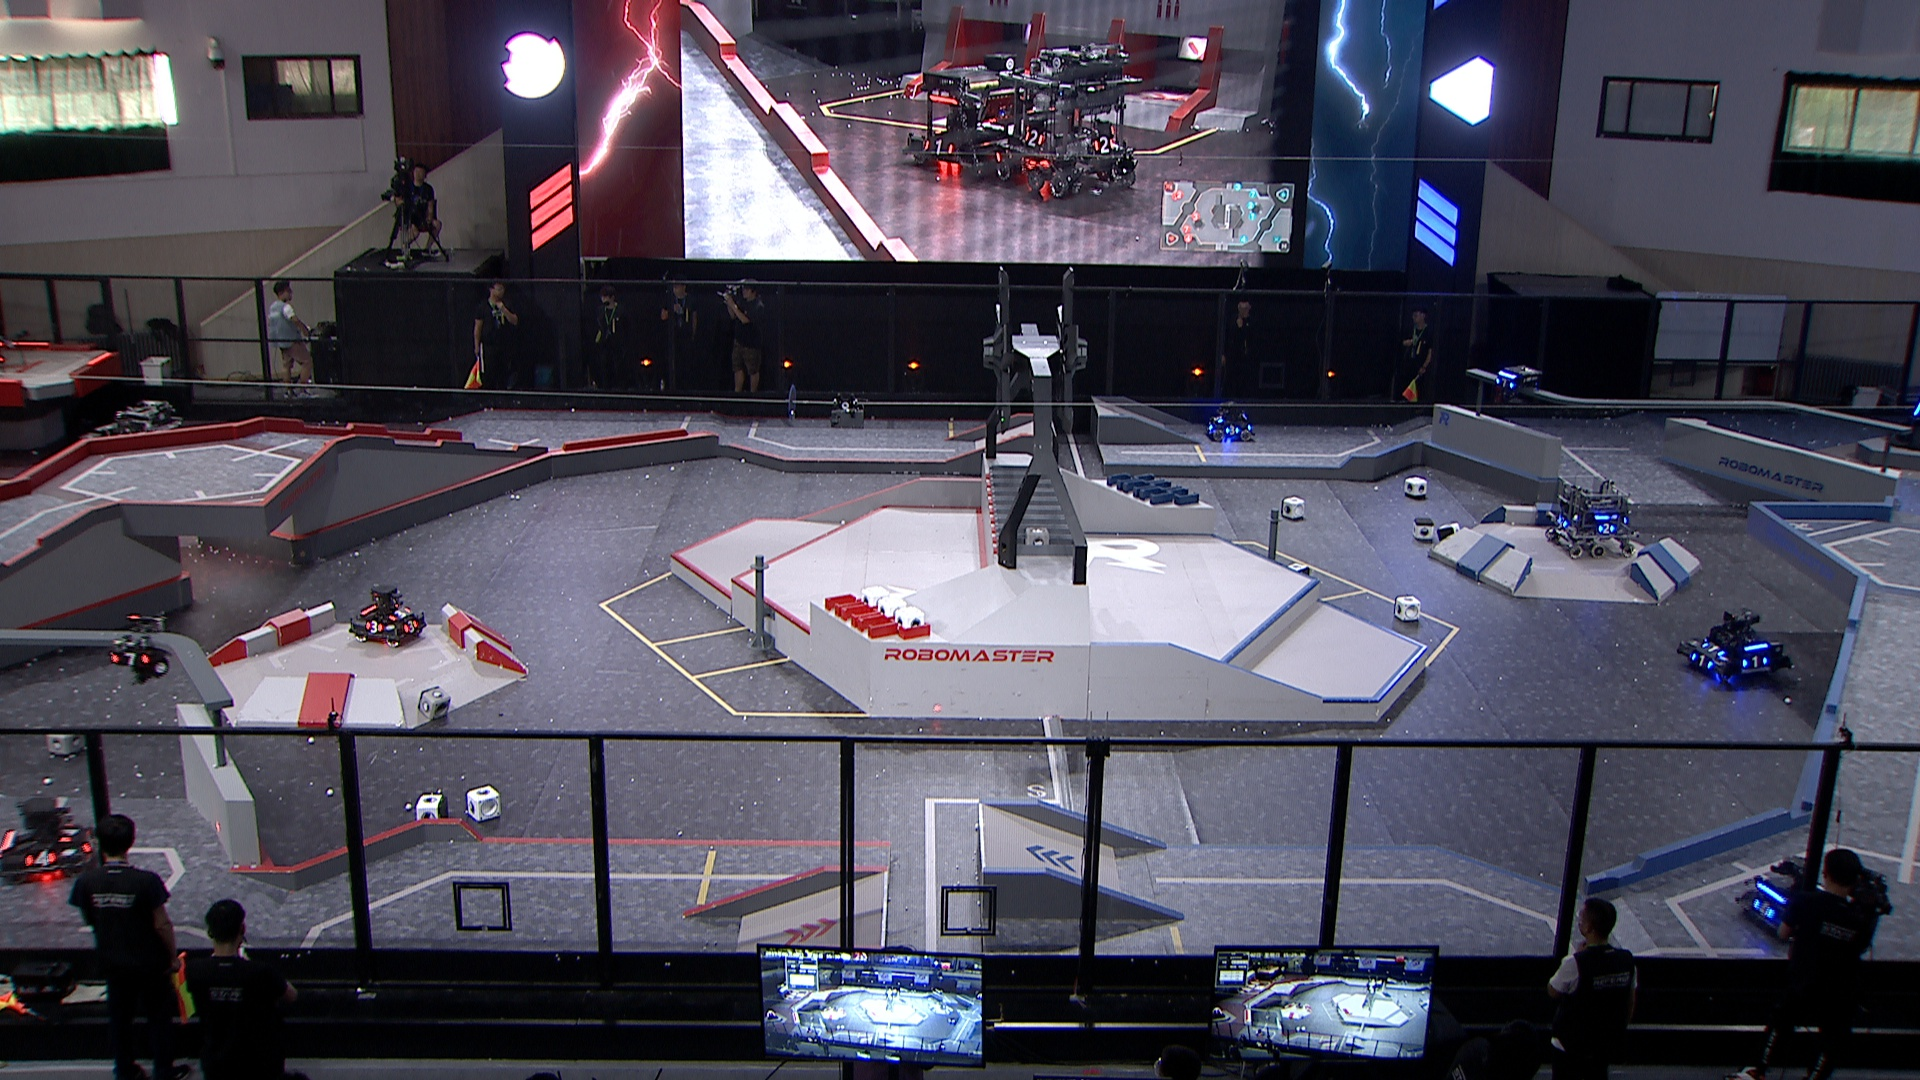armor: (22, 847, 57, 868), (53, 822, 79, 845), (109, 651, 150, 665), (1750, 898, 1776, 918), (79, 828, 96, 855), (386, 605, 414, 621), (1741, 654, 1768, 669), (1700, 642, 1726, 655), (1692, 654, 1716, 669), (1494, 377, 1515, 392), (363, 618, 384, 633), (400, 617, 418, 632), (1598, 522, 1617, 535), (1225, 423, 1242, 436), (1556, 516, 1571, 529), (1211, 414, 1225, 425)
car: (1737, 853, 1845, 945), (1680, 608, 1795, 688), (1542, 475, 1638, 560), (84, 396, 179, 481), (348, 583, 425, 646), (1204, 398, 1254, 439)
ignore: (998, 45, 1143, 199), (906, 55, 1030, 177)
watcher: (107, 611, 171, 684), (1490, 357, 1545, 417)
